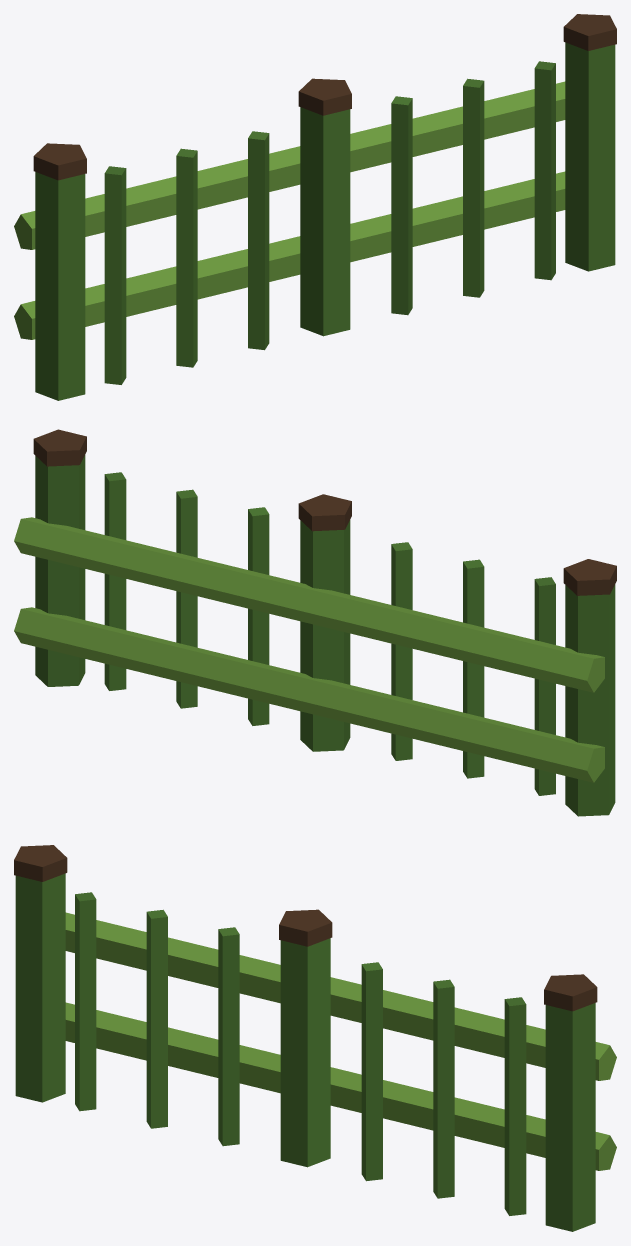
Rendered from Scatter_LowFenceSegment.fbx.
3 views of the same model, one above another, from view 1: azimuth 30°, elevation 25°; view 2: azimuth 150°, elevation 25°; view 3: azimuth 330°, elevation 25° (orthographic).
Visible parts, largest first — view 1: LowFenceSegment; view 2: LowFenceSegment; view 3: LowFenceSegment.
Part boxes in pixels (x1,y1,x2,y2): LowFenceSegment: (14, 14, 616, 400); LowFenceSegment: (14, 429, 616, 816); LowFenceSegment: (14, 845, 616, 1231).
Size of the model in its own units: 8.05 by 3.15 by 0.8951.
